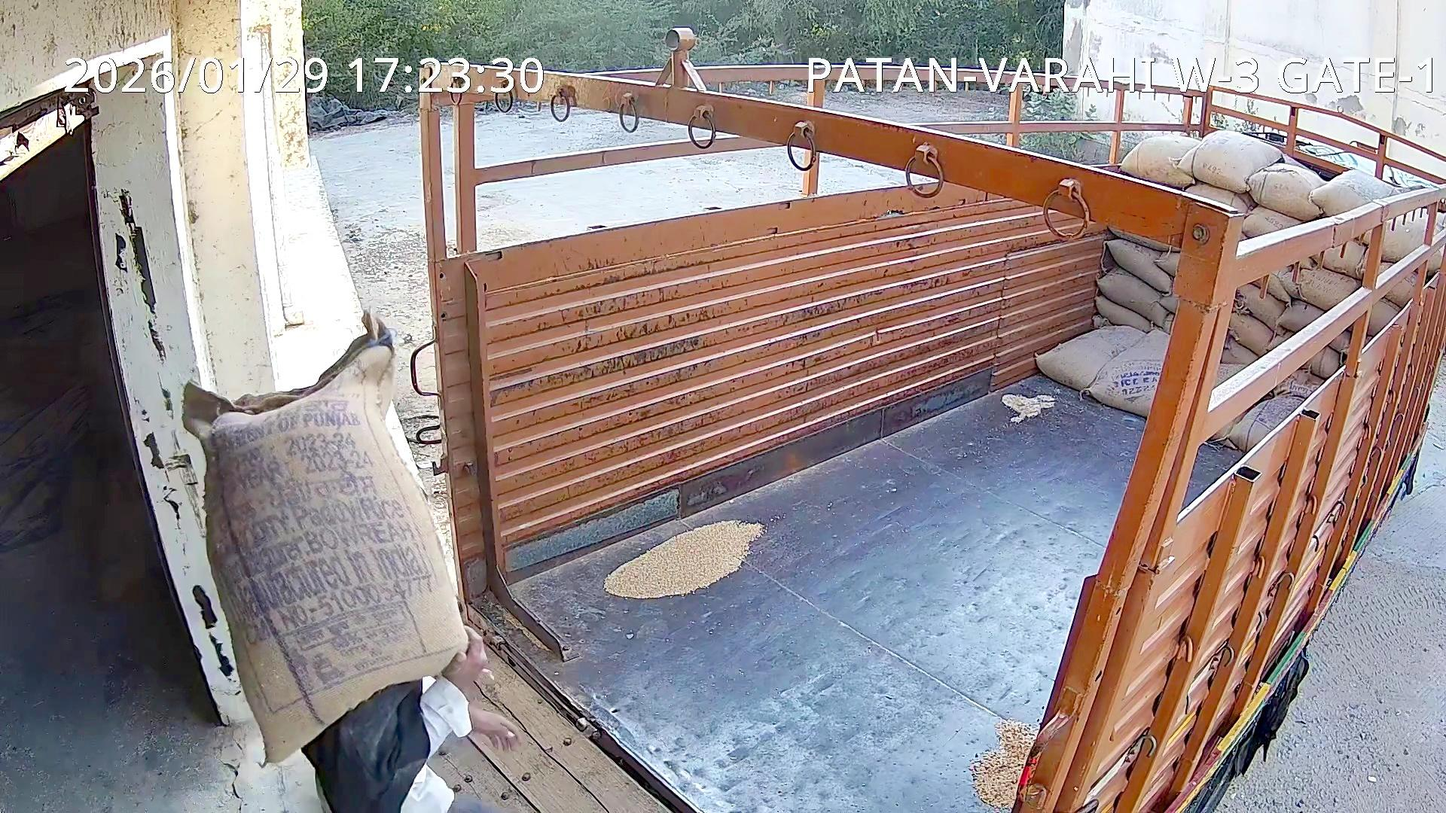Sack: (184, 314, 465, 760)
